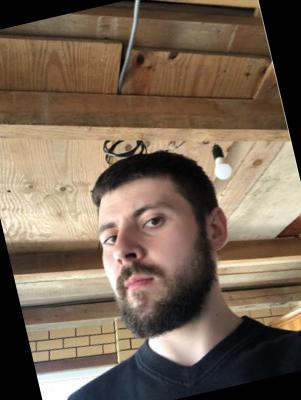without_mask: (92, 192, 213, 343)
